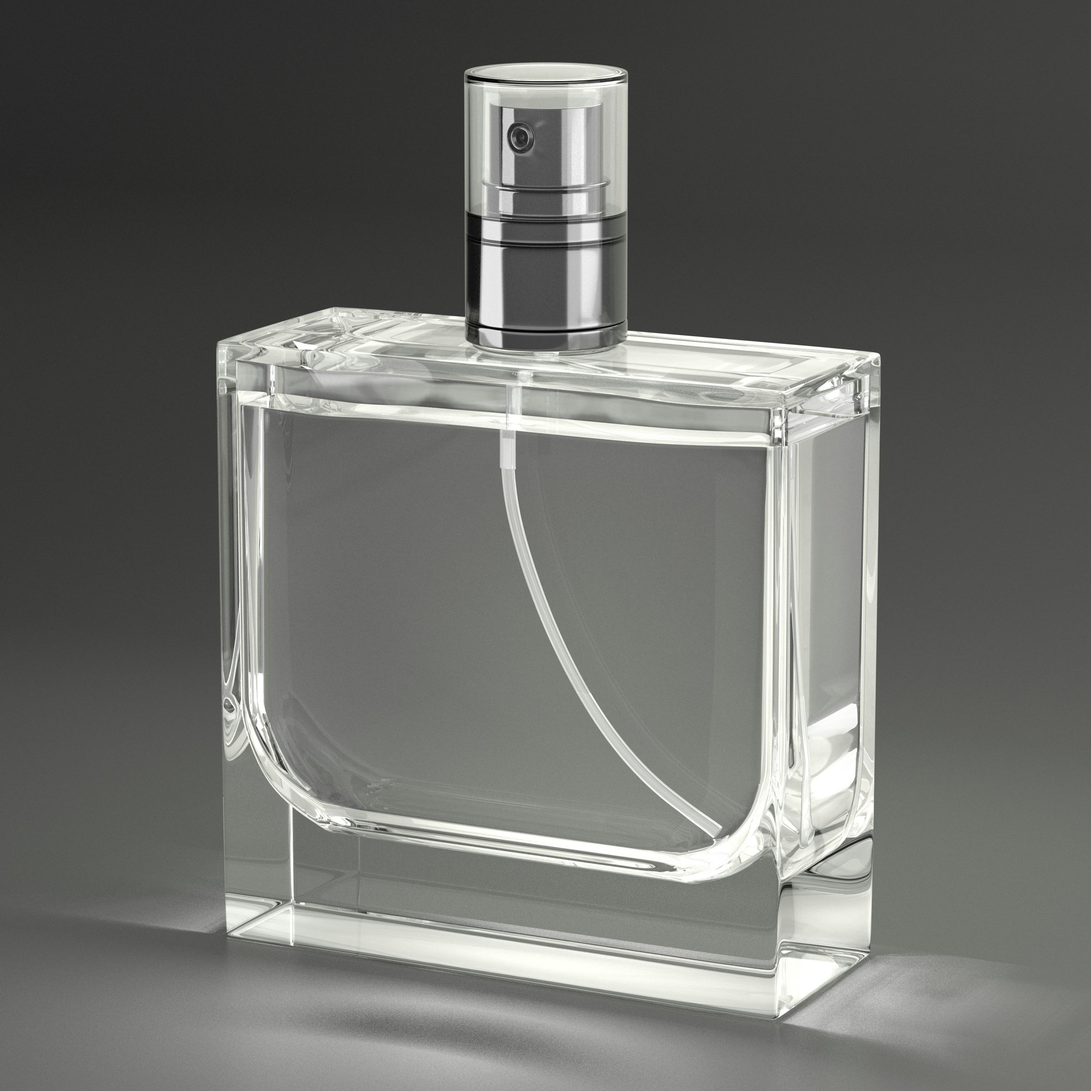Bottle-Detection: (160, 25, 1000, 1069)
